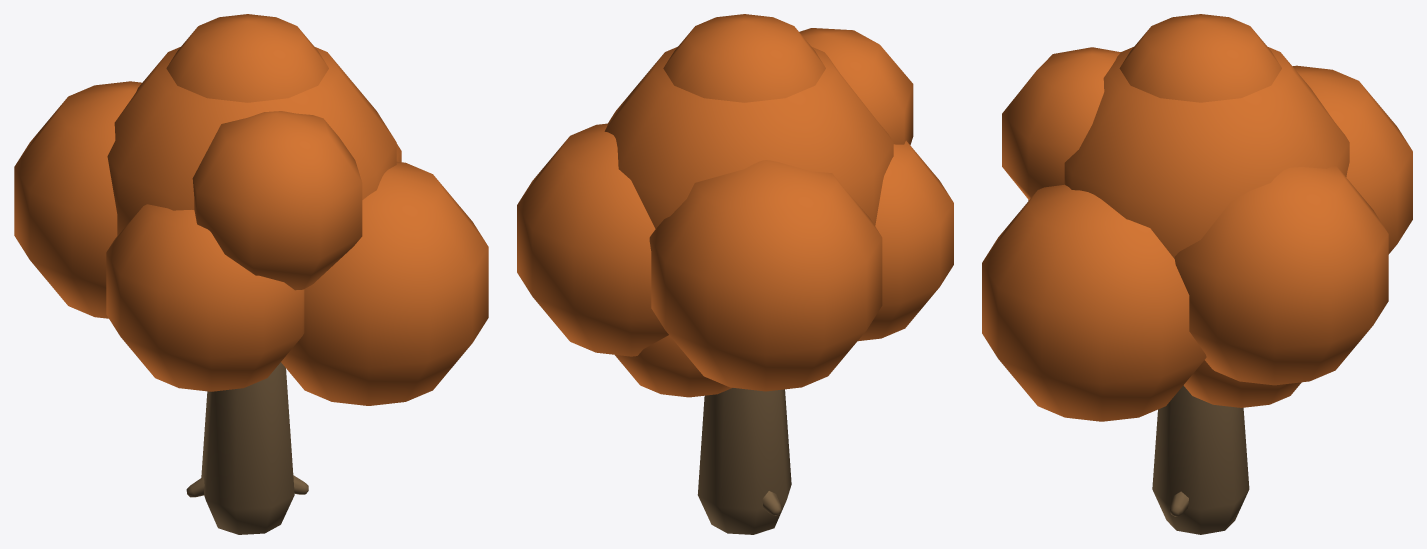
The model's file is prop_autumnfalse_3622.glb.
3 views of the same model, side by side, from view 1: azimuth 30°, elevation 25°; view 2: azimuth 150°, elevation 25°; view 3: azimuth 270°, elevation 25° (orthographic).
Parts seen in each view (by area): view 1: prop_autumnfalse_3622; view 2: prop_autumnfalse_3622; view 3: prop_autumnfalse_3622.
Boxes of the visible parts, bbox=[...] form: prop_autumnfalse_3622: bbox=[14, 14, 488, 534]; prop_autumnfalse_3622: bbox=[517, 14, 953, 534]; prop_autumnfalse_3622: bbox=[982, 14, 1412, 534].
Bounding box in the file's own units: 1.45 × 2.06 × 1.57.
Materials: 1 (1 with a texture image).
